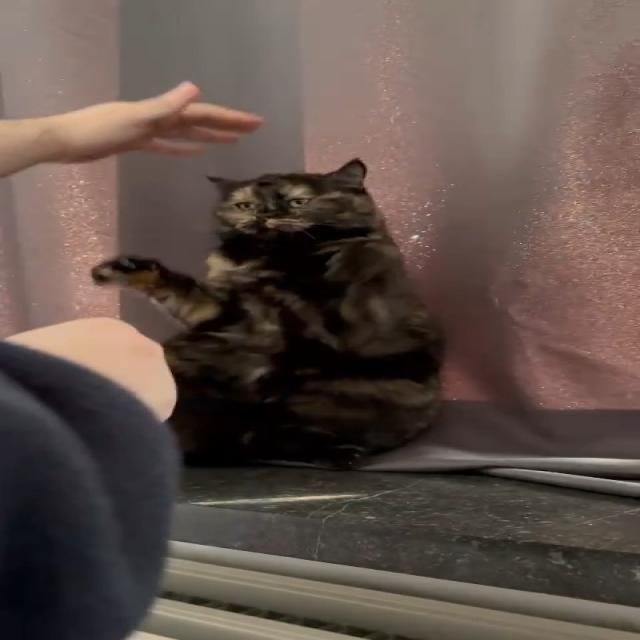authorized: (89, 156, 447, 470)
